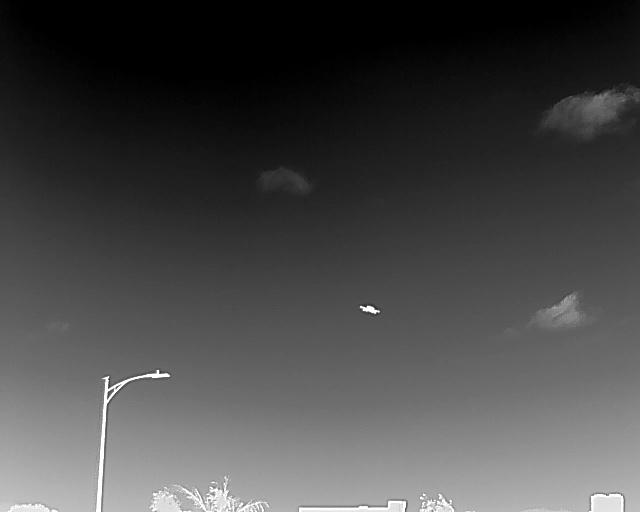fpv-drone: (359, 304, 380, 315)
